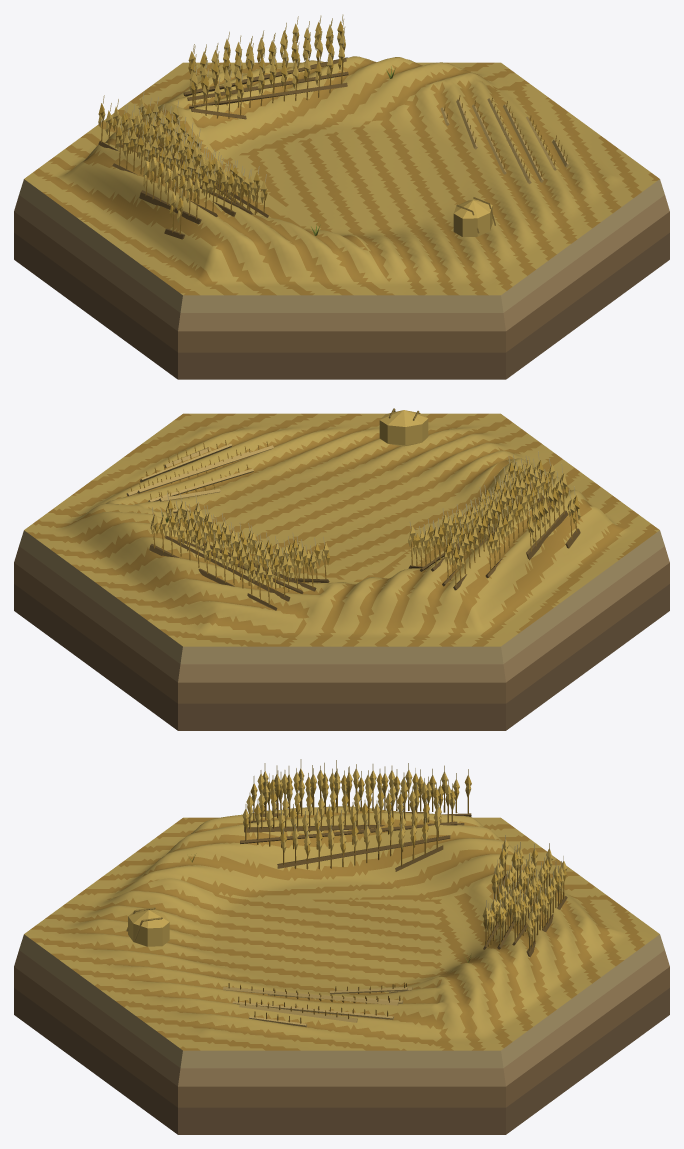
Rendered from catan_terrain_wheat_01.glb.
3 views of the same model, one above another, from view 1: azimuth 30°, elevation 25°; view 2: azimuth 150°, elevation 25°; view 3: azimuth 270°, elevation 25° (orthographic).
Visible parts, largest first — view 1: catan_terrain_wheat_01_ground, catan_terrain_wheat_01_decoration; view 2: catan_terrain_wheat_01_ground, catan_terrain_wheat_01_decoration; view 3: catan_terrain_wheat_01_ground, catan_terrain_wheat_01_decoration.
Part boxes in pixels (x1,y1,x2,y2): catan_terrain_wheat_01_ground: (14, 56, 669, 379); catan_terrain_wheat_01_decoration: (98, 14, 568, 239); catan_terrain_wheat_01_ground: (14, 413, 669, 730); catan_terrain_wheat_01_decoration: (126, 408, 580, 610); catan_terrain_wheat_01_ground: (14, 806, 669, 1134); catan_terrain_wheat_01_decoration: (126, 759, 567, 1027).
Size of the model in its own units: 1.71 by 0.5663 by 1.97.
